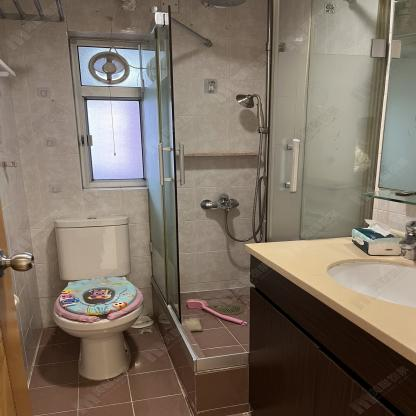Exhaust Fan: (86, 51, 133, 85)
Toilet: (51, 216, 146, 379)
Toilet Sink: (244, 227, 416, 365)
Water Cubicle: (139, 0, 392, 413)
